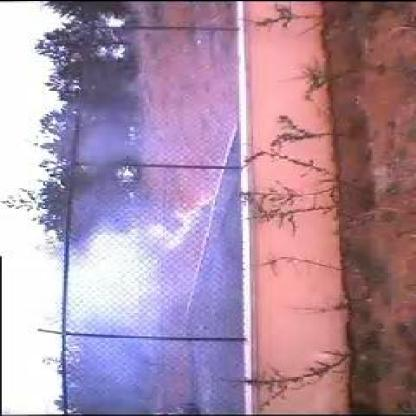-: (64, 186, 238, 368)
